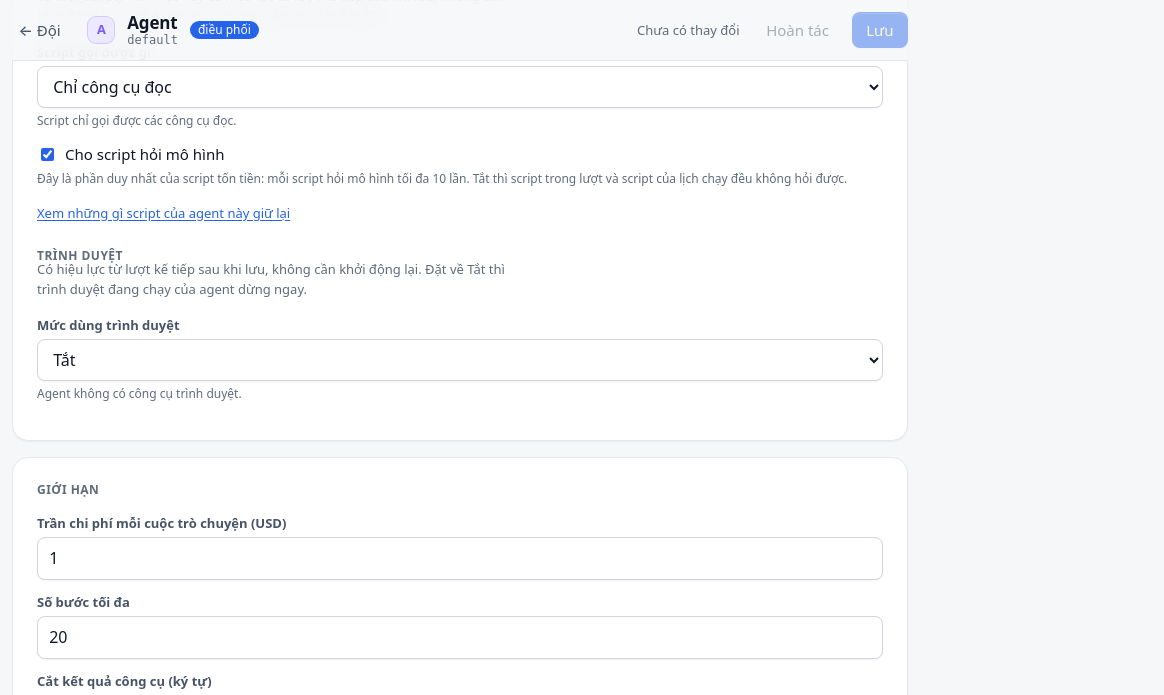
Test: whether an agent has a browser › saves read as the one key that changed
(page scrolled)
Select "Đọc" in the dropdown labelled "Mức dùng trình duyệt" at (460, 360), box [37,339,883,381]
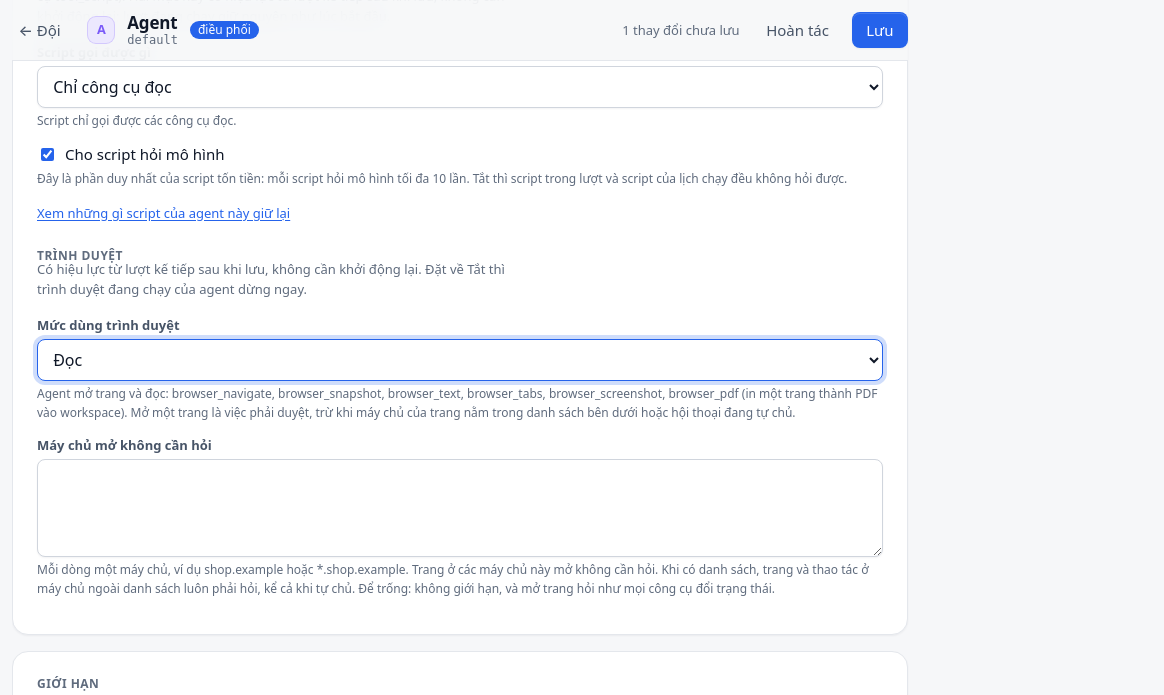
Click the button "Lưu" at (880, 30), box [852,12,908,48]
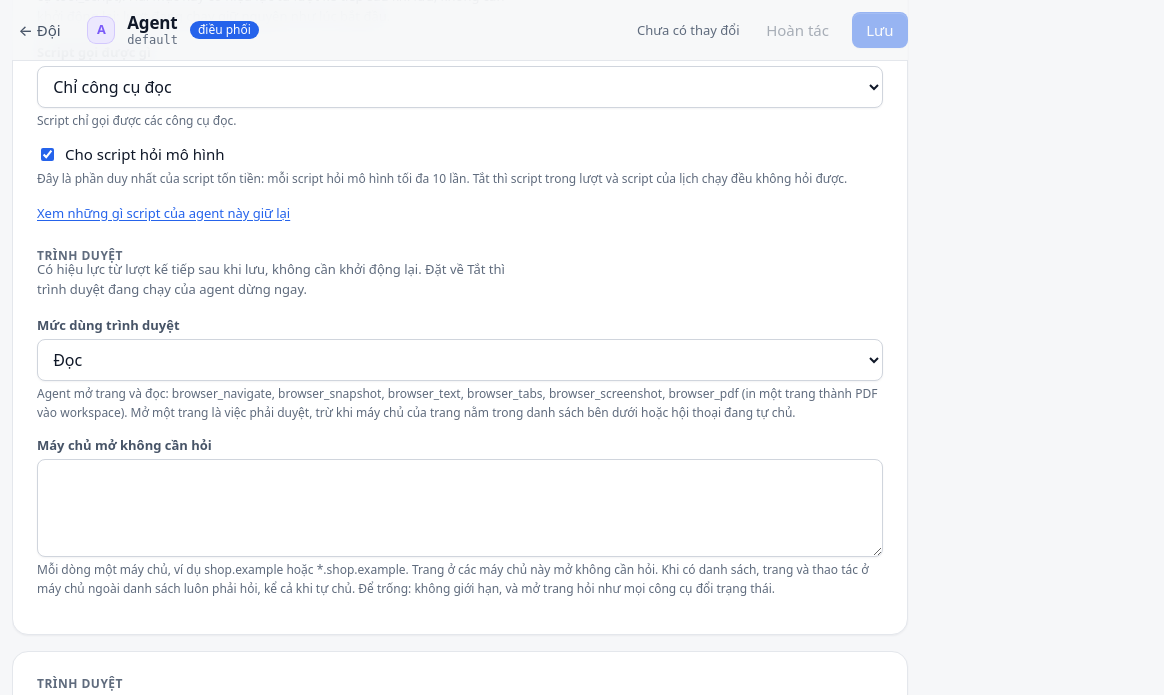
Expected: the text "Chưa có thay đổi" is shown, [637,20,740,40]
